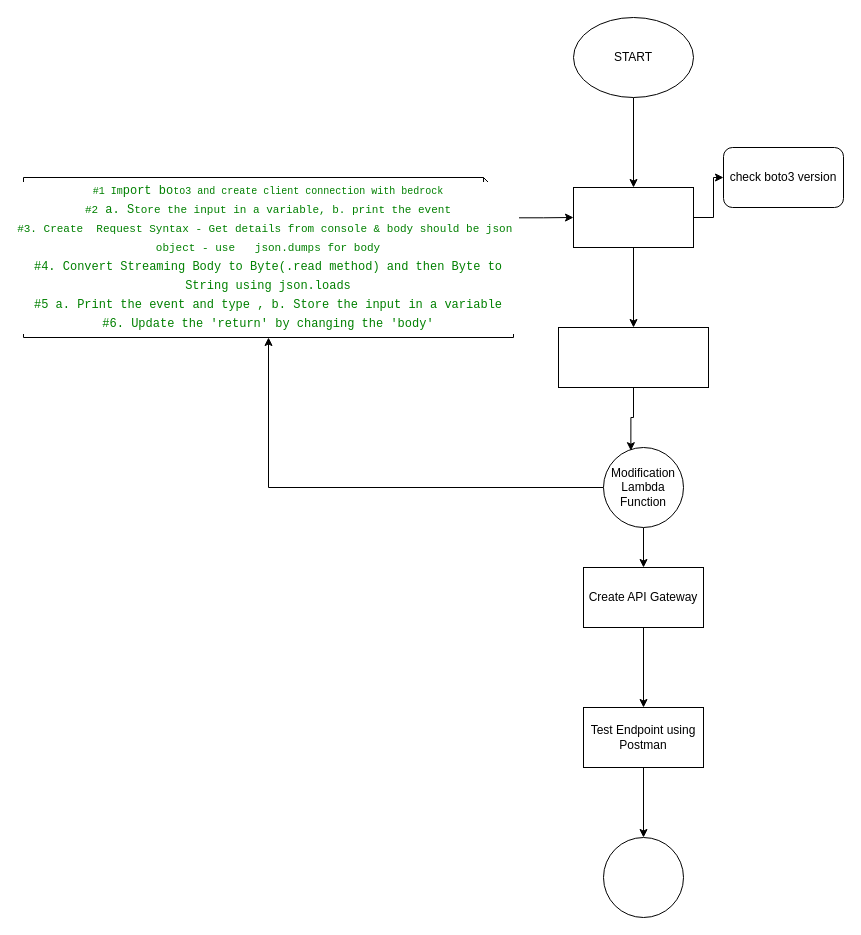
The diagram is 861 pixels wide and 935 high, and some of its shapes have lost their labels. Each missing label, with the centre of its shape:
1. Create IAM Role 2. Increase timeout limit: the point at 633,357
create lambda function: the point at 633,217
END: the point at 643,877
